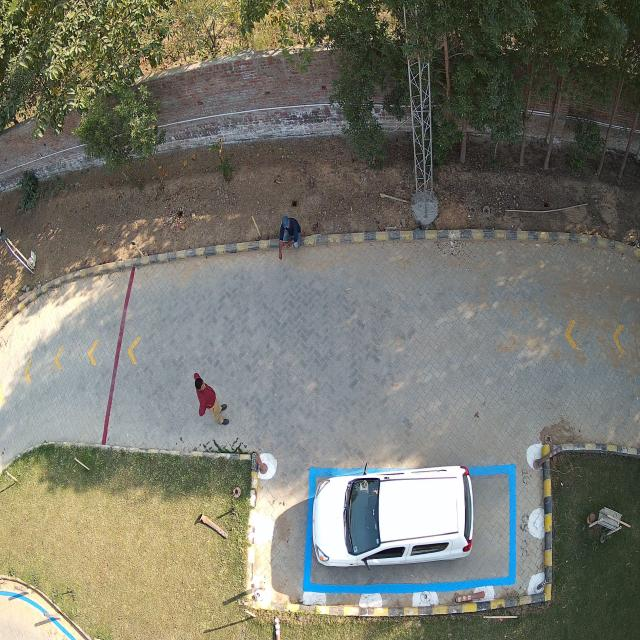car: (312, 467, 474, 567)
